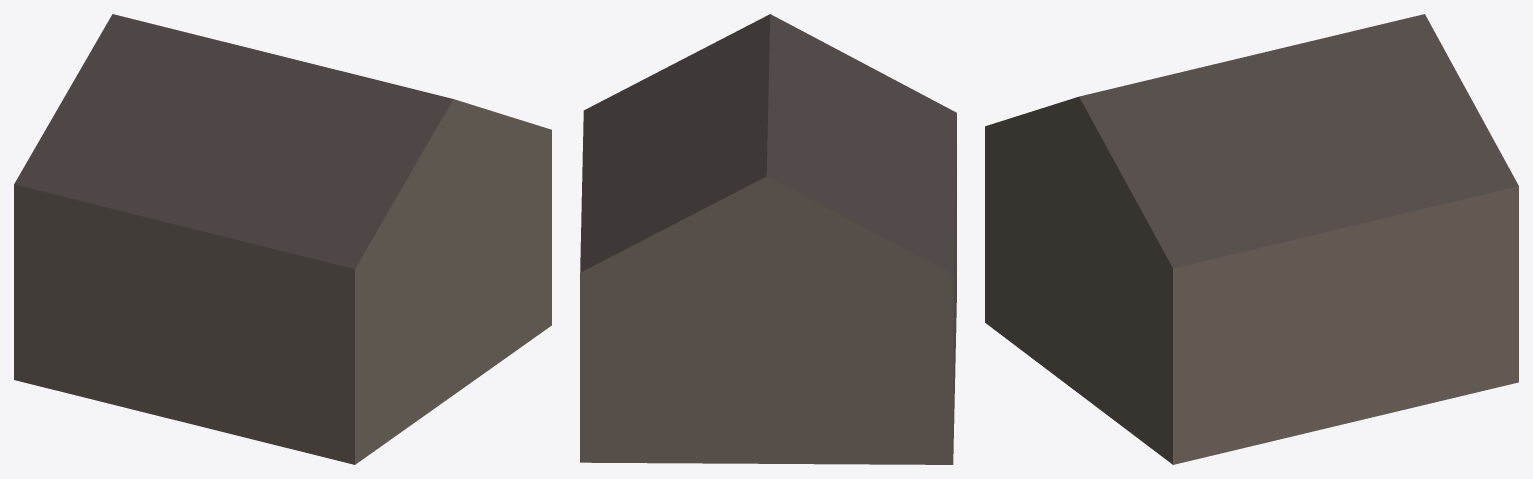
The picture shows the model from 3 angles, left to right: view 1: azimuth 30°, elevation 25°; view 2: azimuth 150°, elevation 25°; view 3: azimuth 270°, elevation 25°; orthographic projection. The views are drawn at different scales.
Visible parts, largest first — view 1: HP-w859088512; view 2: HP-w859088512; view 3: HP-w859088512.
Part boxes in pixels (<box>): HP-w859088512: <box>14,14,551,464</box>; HP-w859088512: <box>580,14,956,464</box>; HP-w859088512: <box>985,14,1518,464</box>.
Bounding box in the file's own units: 14.74 × 9.08 × 14.79.
